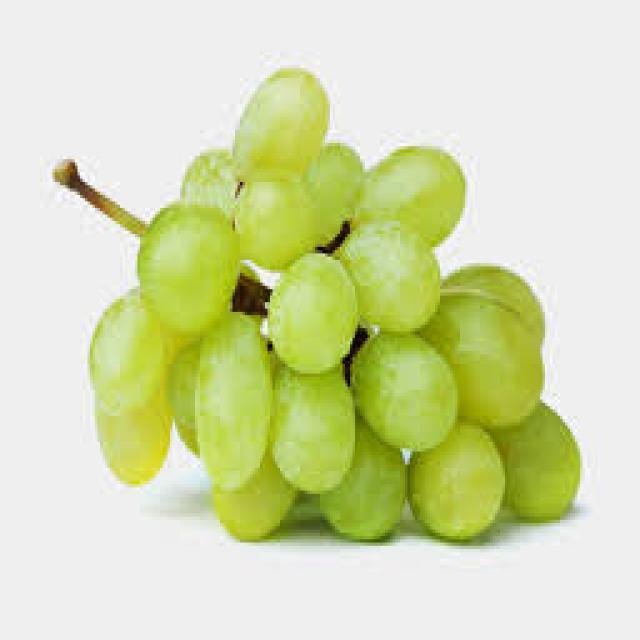organic waste: (422, 289, 542, 426), (192, 309, 268, 487), (350, 325, 455, 448), (138, 198, 238, 322), (347, 143, 465, 244), (265, 348, 350, 487), (485, 400, 580, 523), (405, 422, 503, 536), (228, 65, 328, 175), (318, 406, 402, 536), (335, 221, 435, 322), (268, 250, 352, 370), (88, 296, 168, 402), (235, 166, 315, 263), (442, 263, 542, 335), (210, 461, 295, 536), (100, 386, 165, 481), (178, 150, 242, 218), (310, 140, 360, 218), (167, 334, 195, 452)
